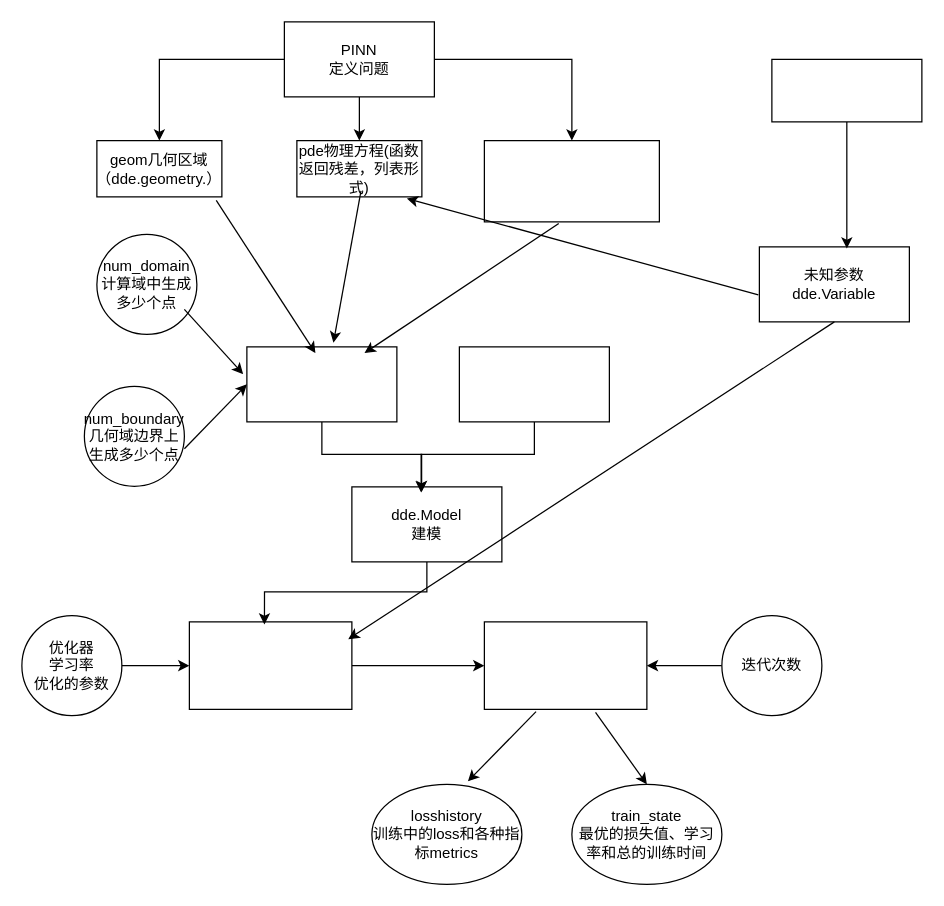
Image size: 944x906. Some labels were removed from this diagram. The centre of each missing label's shape, as x and y in pixels:
bcs初始/边界条件/数据点约束（ dde.icbc. ），也为数据损失: (571,180)
IPINN 逆问题: (846,90)
model.compile(...) 编译: (270,665)
model.train(...) 训练: (565,665)
net = dde.nn. 神经网络架构: (533,384)
整合数据（ dde.data. ）: (321,384)
